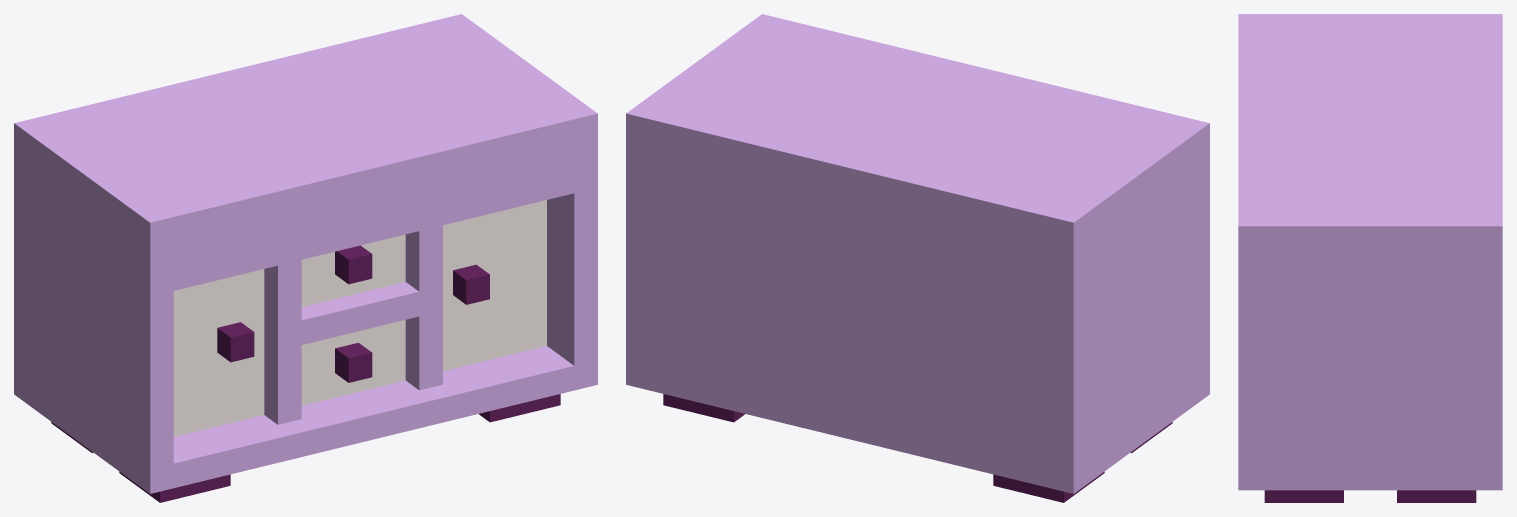
The model's file is Mesa tele.obj.
The picture shows the model from 3 angles, left to right: view 1: azimuth 30°, elevation 25°; view 2: azimuth 150°, elevation 25°; view 3: azimuth 270°, elevation 25°; orthographic projection. The views are drawn at different scales.
Bounding box in the file's own units: 1.9 × 1.2 × 1.
Materials: 1 (1 with a texture image).
